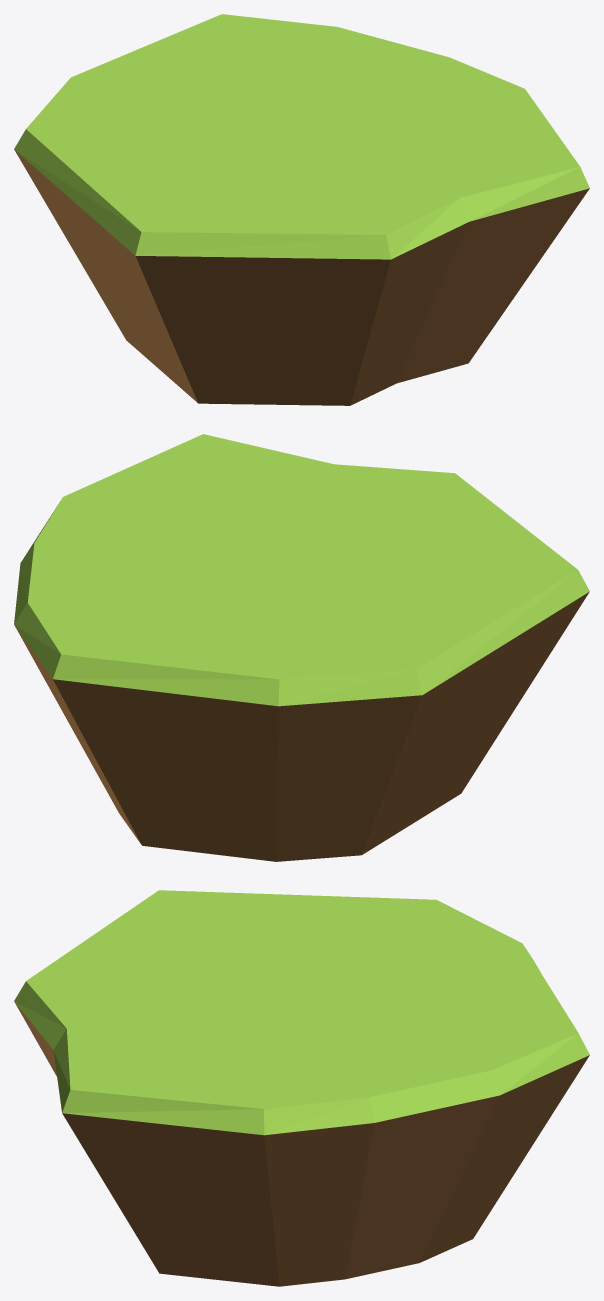
The model's file is Isla.fbx.
3 views of the same model, one above another, from view 1: azimuth 30°, elevation 25°; view 2: azimuth 150°, elevation 25°; view 3: azimuth 270°, elevation 25° (orthographic). The views are drawn at different scales.
Visible parts, largest first — view 1: pCylinder1; view 2: pCylinder1; view 3: pCylinder1.
Boxes of the visible parts, left/top/right/bottom form: pCylinder1: left=14, top=14, right=589, bottom=405; pCylinder1: left=14, top=434, right=589, bottom=861; pCylinder1: left=14, top=890, right=589, bottom=1286.
Bounding box in the file's own units: 2.88 × 1.28 × 3.07.
